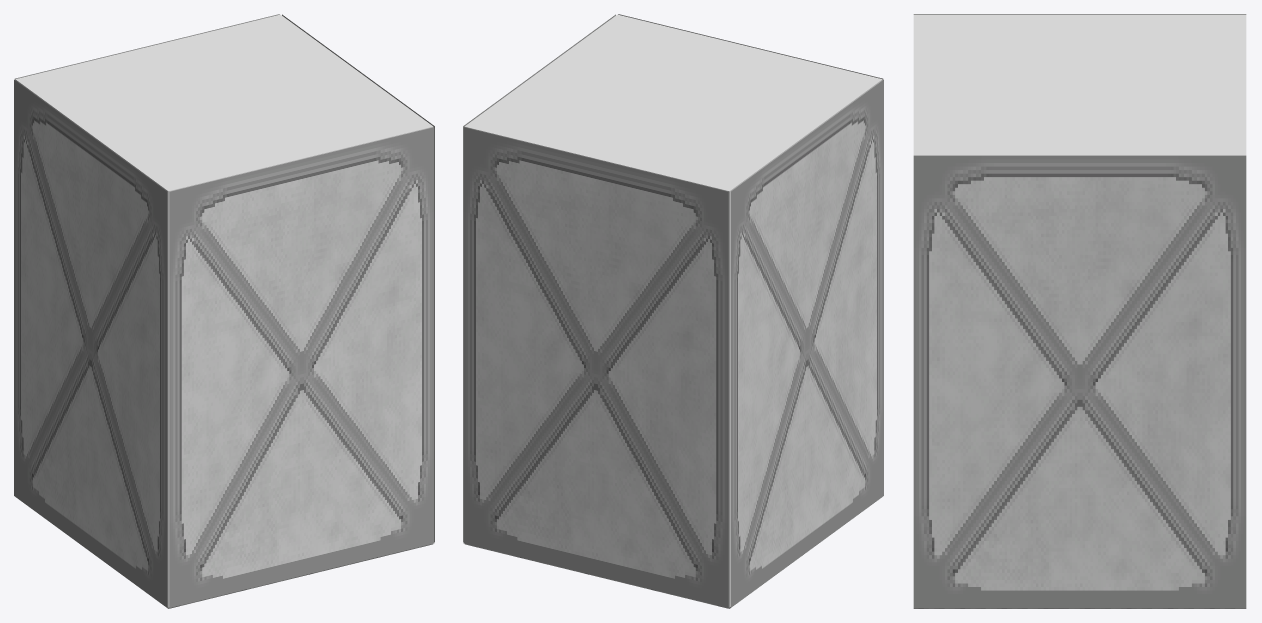
The model's file is devbattery.obj.
3 renders of one model, left to right at view 1: azimuth 30°, elevation 25°; view 2: azimuth 150°, elevation 25°; view 3: azimuth 270°, elevation 25°, orthographic. The views are drawn at different scales.
Parts seen in each view (by area): view 1: Devbattery5, Devbattery4, Devbattery1, Devbattery2; view 2: Devbattery3, Devbattery4, Devbattery1, Devbattery2; view 3: Devbattery2, Devbattery1.
Part boxes in pixels (x1=…): Devbattery5: x1=169, y1=127, x2=434, y2=607; Devbattery4: x1=14, y1=80, x2=166, y2=607; Devbattery1: x1=15, y1=14, x2=433, y2=607; Devbattery2: x1=282, y1=14, x2=434, y2=542; Devbattery3: x1=463, y1=127, x2=728, y2=607; Devbattery4: x1=731, y1=80, x2=883, y2=607; Devbattery1: x1=464, y1=14, x2=882, y2=607; Devbattery2: x1=463, y1=14, x2=615, y2=542; Devbattery2: x1=913, y1=156, x2=1246, y2=608; Devbattery1: x1=913, y1=14, x2=1246, y2=155.
Size of the model in its own units: 4.04 by 6.02 by 4.04.
3 materials, 2 textured.
